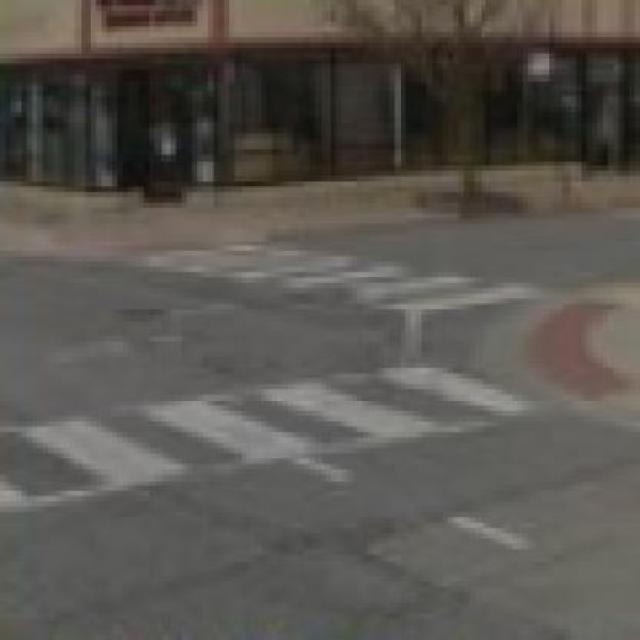crosswalk: (0, 362, 550, 509), (125, 240, 555, 315)
